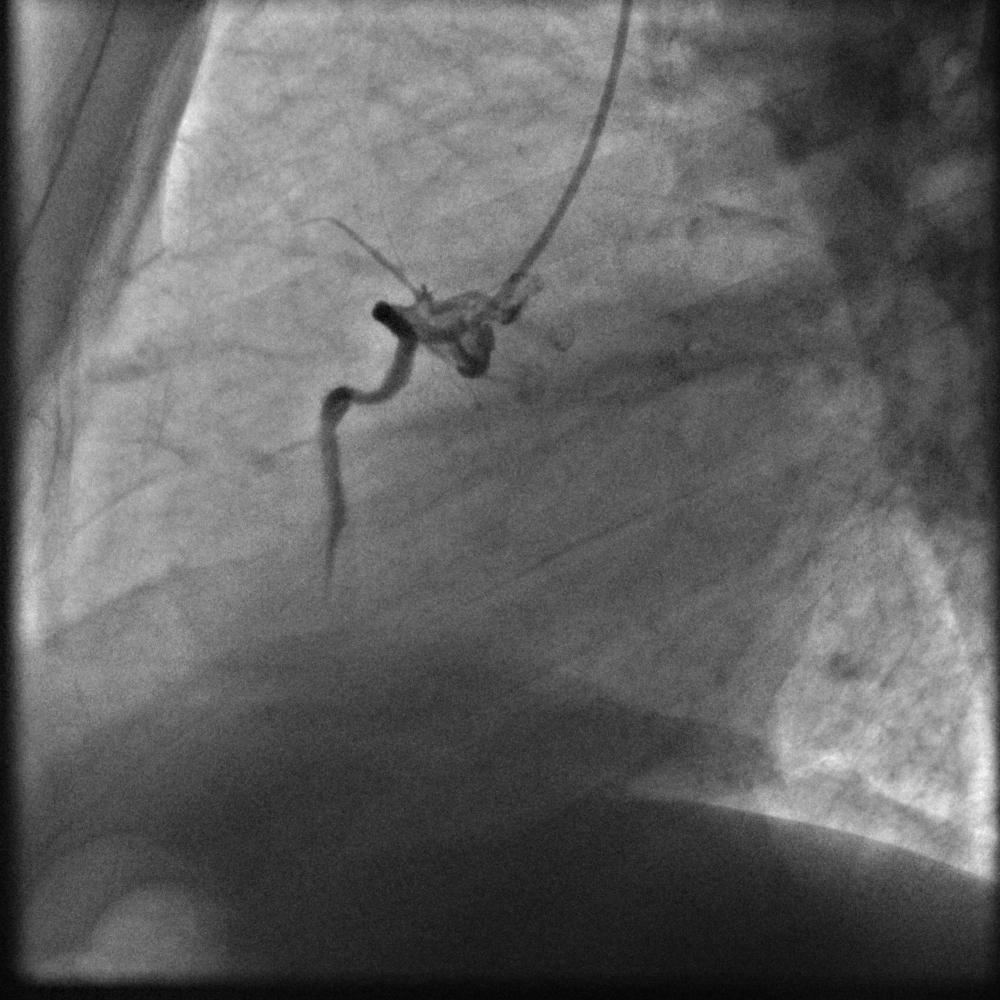Stenosis: (347, 384, 379, 407)
